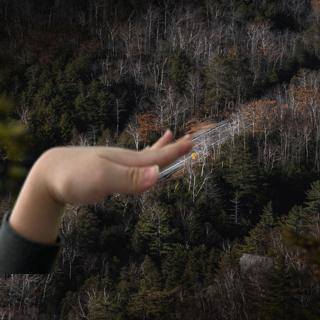Wait: (16, 129, 194, 209)
